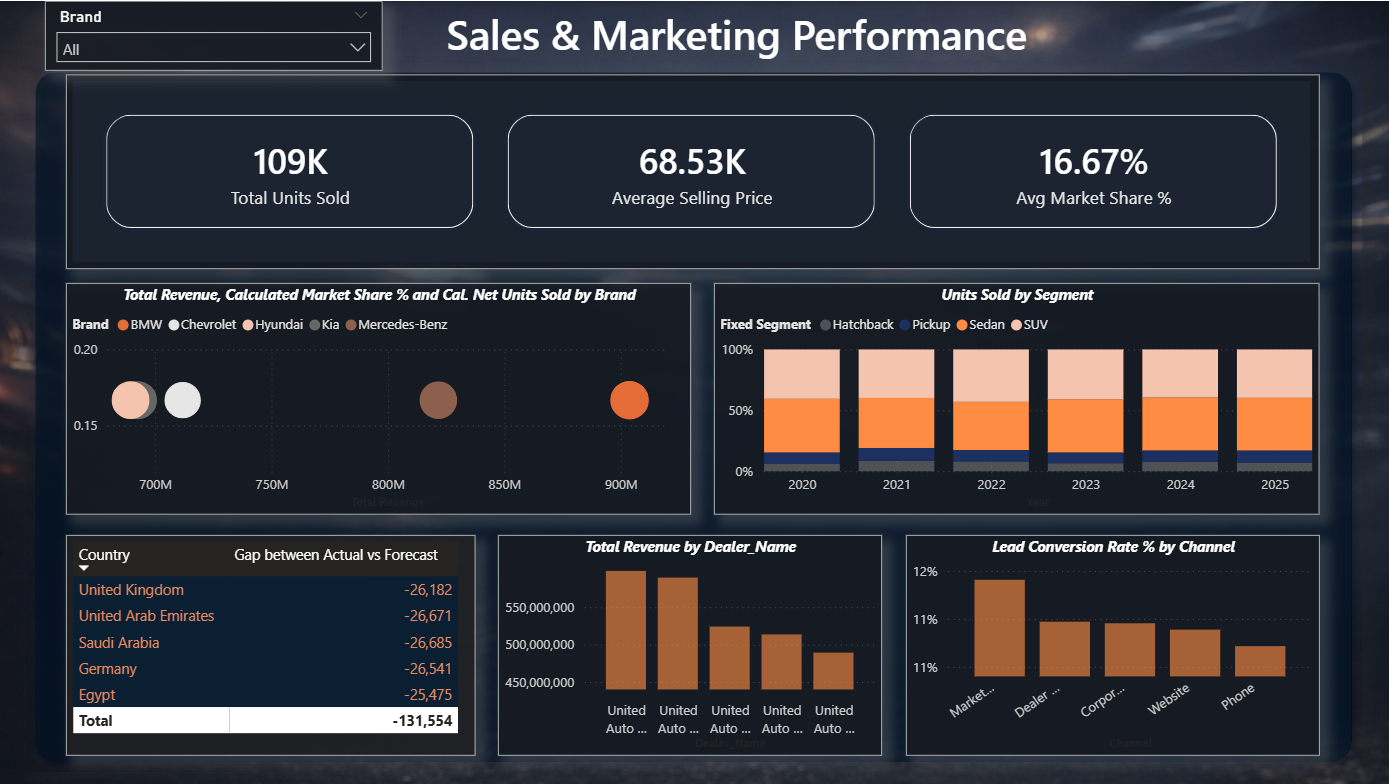

The dashboard page shown, as its layout file describes it:
{"tool":"powerbi","page":{"name":"Sales & Marketing Performance","canvas":[1280,720],"ordinal":1},"visuals":[{"type":"shape","box":[25.7,57.1,1227.1,651.4],"z":0},{"type":"hundredPercentStackedColumnChart","title":"Units Sold by Segment","fields":{"Category":["DimDate.Date.Variation.Date Hierarchy.Year","DimDate.Date.Variation.Date Hierarchy.Quarter","DimDate.Date.Variation.Date Hierarchy.Month","DimDate.Date.Variation.Date Hierarchy.Day"],"Series":["DimCars.Fixed Segment"],"Y":["_Measure Executive Overview.Total Units Sold"]},"box":[658.6,258.6,555.7,212.9],"z":1000},{"type":"scatterChart","fields":{"X":["_Measure Executive Overview.Total Revenue"],"Y":["_Measues Sales & Market Performance.Calculated Market Share %"],"Series":["DimCars.Brand"],"Size":["_Measure Executive Overview.Cal. Net Units Sold"]},"box":[62.9,258.6,574.3,212.9],"z":2000},{"type":"cardVisual","fields":{"Data":["_Measure Executive Overview.Total Units Sold","_Measues Sales & Market Performance.Average Selling Price","_Measues Sales & Market Performance.Avg Market Share %"]},"box":[62.9,67.1,1151.4,178.6],"z":3000},{"type":"columnChart","fields":{"Category":["DimDealers.Dealer_Name"],"Y":["_Measure Executive Overview.Total Revenue"]},"box":[460,490,352.9,202.9],"z":4000},{"type":"textbox","box":[385.7,0,587.1,67.1],"z":5000},{"type":"columnChart","fields":{"Category":["FactSales.Channel"],"Y":["_Measues Sales & Market Performance.Lead Conversion Rate %"]},"box":[834.3,490,380,202.9],"z":6000},{"type":"tableEx","fields":{"Values":["DimCountry.Country","select","_Measure Forecast.Gap between Actual vs Forecast"]},"box":[62.9,490,375.7,202.9],"z":7000},{"type":"slicer","fields":{"Values":["DimCars.Brand"]},"box":[44.3,0,310,64.3],"z":8000}]}

Visuals, with their boxes in screenshot pixels (x1, y1, x2, y2), scaled from the page's 1280x720 canvas onto the 1389x784 screenshot:
shape: {"x1": 28, "y1": 62, "x2": 1359, "y2": 771}
"Units Sold by Segment" hundredPercentStackedColumnChart: {"x1": 715, "y1": 282, "x2": 1318, "y2": 513}
scatterChart - _Measure Executive Overview.Total Revenue x _Measues Sales & Market Performance.Calculated Market Share %: {"x1": 68, "y1": 282, "x2": 691, "y2": 513}
cardVisual - _Measure Executive Overview.Total Units Sold x _Measues Sales & Market Performance.Average Selling Price: {"x1": 68, "y1": 73, "x2": 1318, "y2": 268}
columnChart - DimDealers.Dealer_Name x _Measure Executive Overview.Total Revenue: {"x1": 499, "y1": 534, "x2": 882, "y2": 754}
textbox: {"x1": 419, "y1": 0, "x2": 1056, "y2": 73}
columnChart - FactSales.Channel x _Measues Sales & Market Performance.Lead Conversion Rate %: {"x1": 905, "y1": 534, "x2": 1318, "y2": 754}
tableEx - DimCountry.Country x select: {"x1": 68, "y1": 534, "x2": 476, "y2": 754}
slicer - DimCars.Brand: {"x1": 48, "y1": 0, "x2": 384, "y2": 70}
